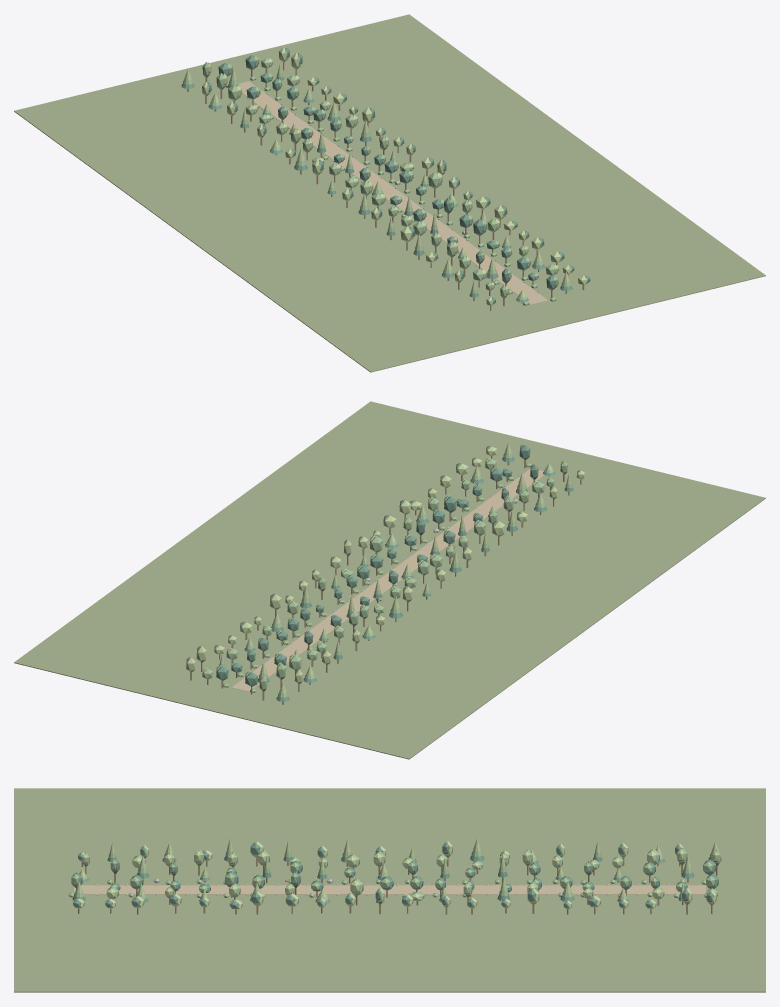
Rendered from forest_day_road.glb.
3 renders of one model, top to bottom at view 1: azimuth 30°, elevation 25°; view 2: azimuth 150°, elevation 25°; view 3: azimuth 270°, elevation 25°, orthographic. The views are drawn at different scales.
Visible parts, largest first — view 1: Static.Forest.ground, Static.Leaf.middle, Static.Leaf.deep, Static.Leaf.light, Static.Trail, Static.Wood; view 2: Static.Forest.ground, Static.Leaf.middle, Static.Leaf.deep, Static.Leaf.light, Static.Trail, Static.Wood; view 3: Static.Forest.ground, Static.Leaf.middle, Static.Leaf.light, Static.Leaf.deep, Static.Trail, Static.Wood.
Boxes of the visible parts, box(x1,y1,x2,y2) form: Static.Forest.ground: box(14, 14, 765, 372); Static.Leaf.middle: box(183, 55, 571, 305); Static.Leaf.deep: box(181, 47, 590, 303); Static.Leaf.light: box(184, 47, 588, 305); Static.Trail: box(238, 81, 547, 304); Static.Wood: box(187, 62, 584, 310); Static.Forest.ground: box(14, 401, 765, 759); Static.Leaf.middle: box(202, 444, 572, 697); Static.Leaf.deep: box(186, 444, 580, 701); Static.Leaf.light: box(186, 443, 585, 693); Static.Trail: box(232, 469, 544, 691); Static.Wood: box(190, 456, 581, 704); Static.Forest.ground: box(14, 788, 765, 992); Static.Leaf.middle: box(68, 847, 720, 900); Static.Leaf.light: box(73, 838, 719, 909); Static.Leaf.deep: box(71, 842, 722, 908); Static.Trail: box(74, 885, 705, 894); Static.Wood: box(76, 857, 717, 914).
Size of the model in its own units: 64 by 4.22 by 100.
